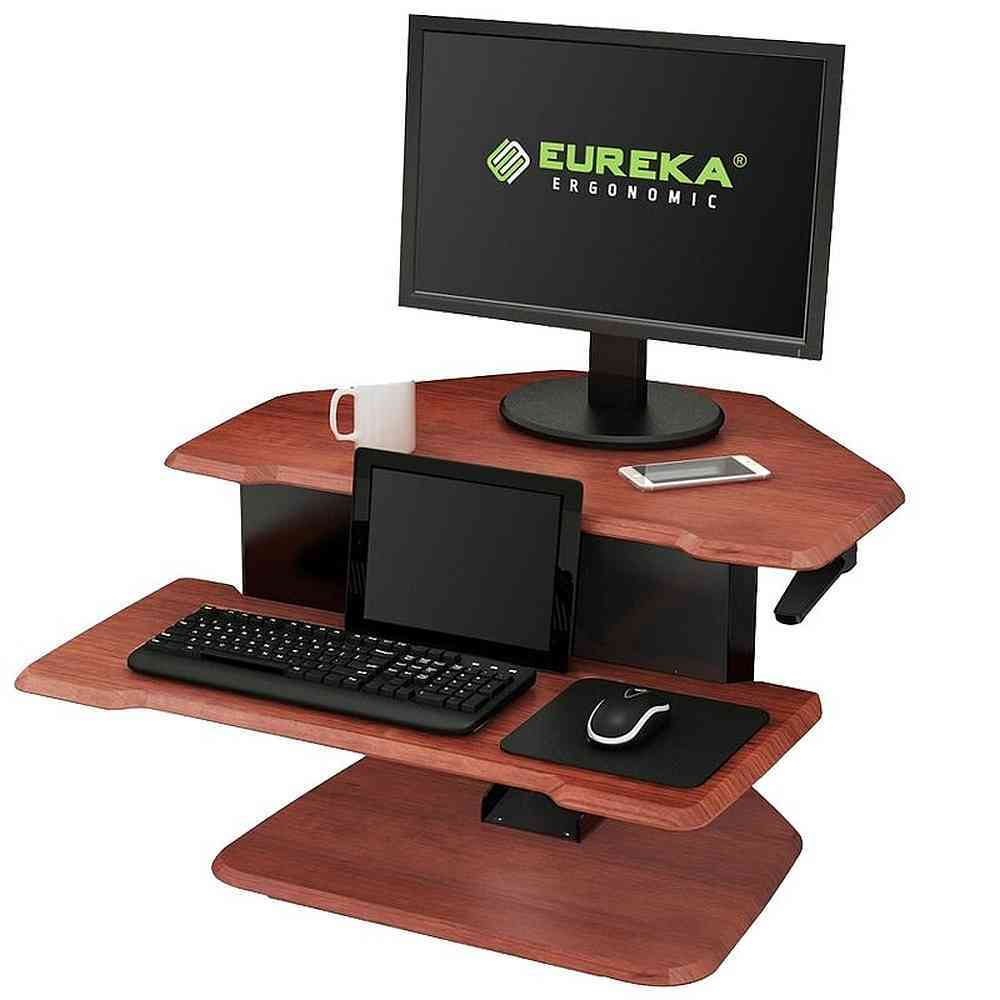keyboard: (117, 593, 542, 751)
monitor: (384, 3, 867, 461)
mouse: (578, 674, 683, 754)
